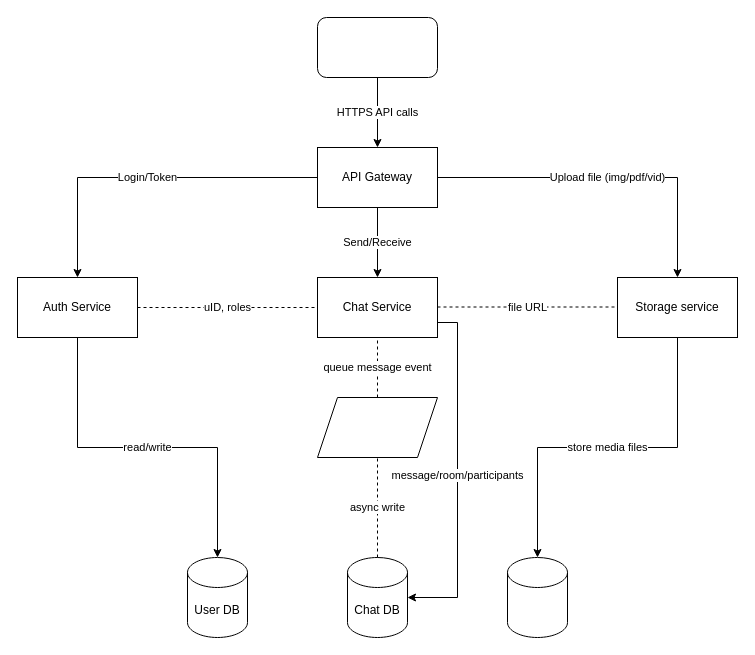
The diagram is 755 pixels wide and 655 high, and some of its shapes have lost their labels. Here are the shapes that lost their labels. From the top down, the centre of each, then its label:
At [377,47]: "Clients".
At [377,427]: "Message Queue".
At [537,597]: "Media DB (bucket)".
